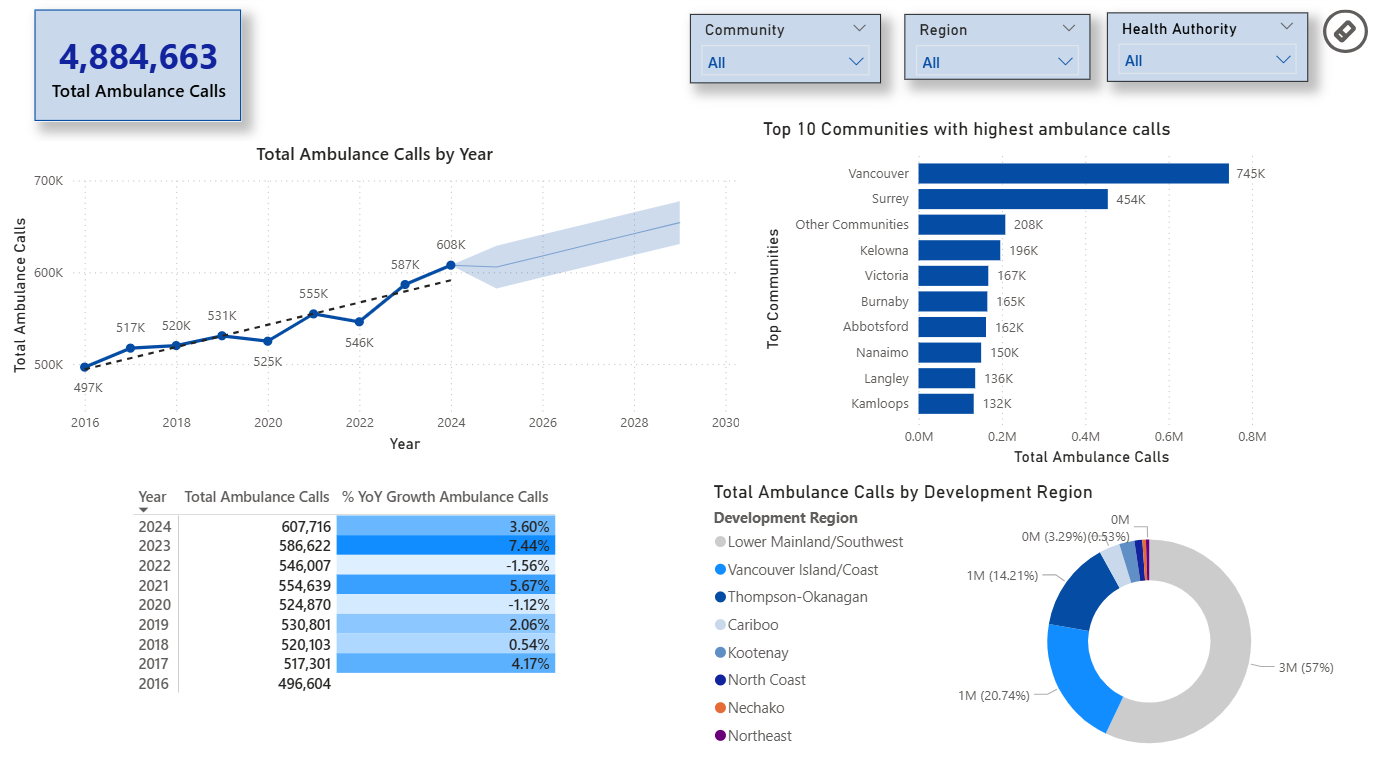

What the dashboard file says about the page in this screenshot:
{"tool":"powerbi","page":{"name":"Ambulance Calls","canvas":[1280,720],"ordinal":2},"visuals":[{"type":"cardVisual","fields":{"Data":["Measure Table.Total Ambulance Calls"]},"box":[142.7,16.5,189.4,102.9],"z":0},{"type":"pivotTable","fields":{"Rows":["Ambulance_Call_Volumes.Year"],"Values":["Measure Table.Total Ambulance Calls","Measure Table.% YoY Growth Ambulance Calls"]},"box":[124.9,446,414.4,225.1],"z":1000},{"type":"image","box":[12.4,0,119.4,135.9],"z":2000},{"type":"lineChart","fields":{"Y":["Measure Table.Total Ambulance Calls"],"Category":["Years.Year"]},"box":[12.6,135.5,677.3,288.2],"z":3000},{"type":"slicer","fields":{"Values":["Ambulance_Call_Volumes.Top Communities"]},"box":[639.5,18.9,174.8,63],"z":4000},{"type":"actionButton","box":[1218.6,15.1,41.2,39.8],"z":5000},{"type":"barChart","title":"Top 10 Communities with highest ambulance calls","fields":{"Y":["Measure Table.Total Ambulance Calls"],"Category":["Ambulance_Call_Volumes.Top Communities"]},"box":[701.3,113.9,483.1,322.5],"z":6000},{"type":"slicer","fields":{"Values":["Place_Names_Translation.Development Region"]},"box":[836.4,18.9,170.1,59.9],"z":7000},{"type":"slicer","fields":{"Values":["Place_Names_Translation.Health Authority"]},"box":[1020.7,17.3,184.3,63],"z":8000},{"type":"donutChart","fields":{"Category":["Place_Names_Translation.Development Region"],"Y":["Measure Table.Total Ambulance Calls"]},"box":[656,446,624.4,274.5],"z":9000}]}

Visuals, with their boxes in screenshot pixels (x1, y1, x2, y2), scaled from the page's 1280x720 canvas onto the 1380x757 screenshot:
cardVisual - Measure Table.Total Ambulance Calls: box(154, 17, 358, 126)
pivotTable - Ambulance_Call_Volumes.Year x Measure Table.Total Ambulance Calls: box(135, 469, 581, 706)
image: box(13, 0, 142, 143)
lineChart - Measure Table.Total Ambulance Calls x Years.Year: box(14, 142, 744, 445)
slicer - Ambulance_Call_Volumes.Top Communities: box(689, 20, 878, 86)
actionButton: box(1314, 16, 1358, 58)
"Top 10 Communities with highest ambulance calls" barChart: box(756, 120, 1277, 459)
slicer - Place_Names_Translation.Development Region: box(902, 20, 1085, 83)
slicer - Place_Names_Translation.Health Authority: box(1100, 18, 1299, 84)
donutChart - Place_Names_Translation.Development Region x Measure Table.Total Ambulance Calls: box(707, 469, 1379, 756)
